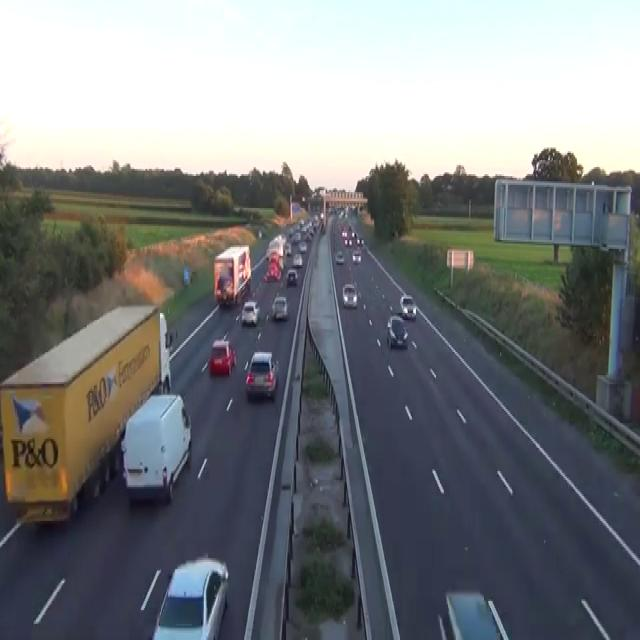Car: (151, 555, 229, 638), (438, 588, 509, 638), (244, 350, 278, 400), (208, 338, 236, 375), (386, 314, 408, 348), (241, 300, 260, 326), (399, 293, 416, 320), (271, 295, 289, 320), (342, 282, 357, 308), (263, 265, 281, 281), (286, 268, 297, 286), (0, 402, 3, 453), (292, 252, 302, 266), (271, 265, 281, 279), (335, 249, 344, 263), (352, 249, 361, 263), (183, 268, 190, 284), (293, 231, 301, 244), (284, 242, 291, 256), (299, 240, 306, 252), (232, 204, 241, 213), (344, 235, 352, 245), (356, 235, 364, 245), (263, 270, 270, 281), (321, 222, 326, 233), (265, 247, 269, 260), (299, 218, 304, 228), (258, 228, 262, 238), (359, 236, 364, 244), (341, 228, 346, 236), (352, 230, 357, 238), (348, 224, 352, 231), (320, 212, 324, 218)
Truck: (0, 302, 172, 528), (120, 391, 191, 503), (213, 244, 251, 308), (265, 233, 285, 270)
